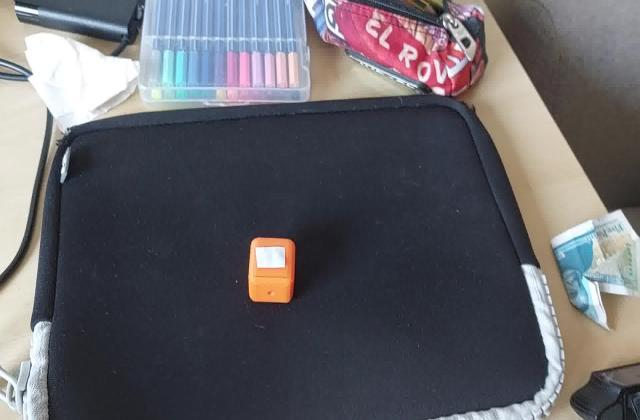sticker: (246, 234, 298, 306)
white: (253, 245, 290, 272)
